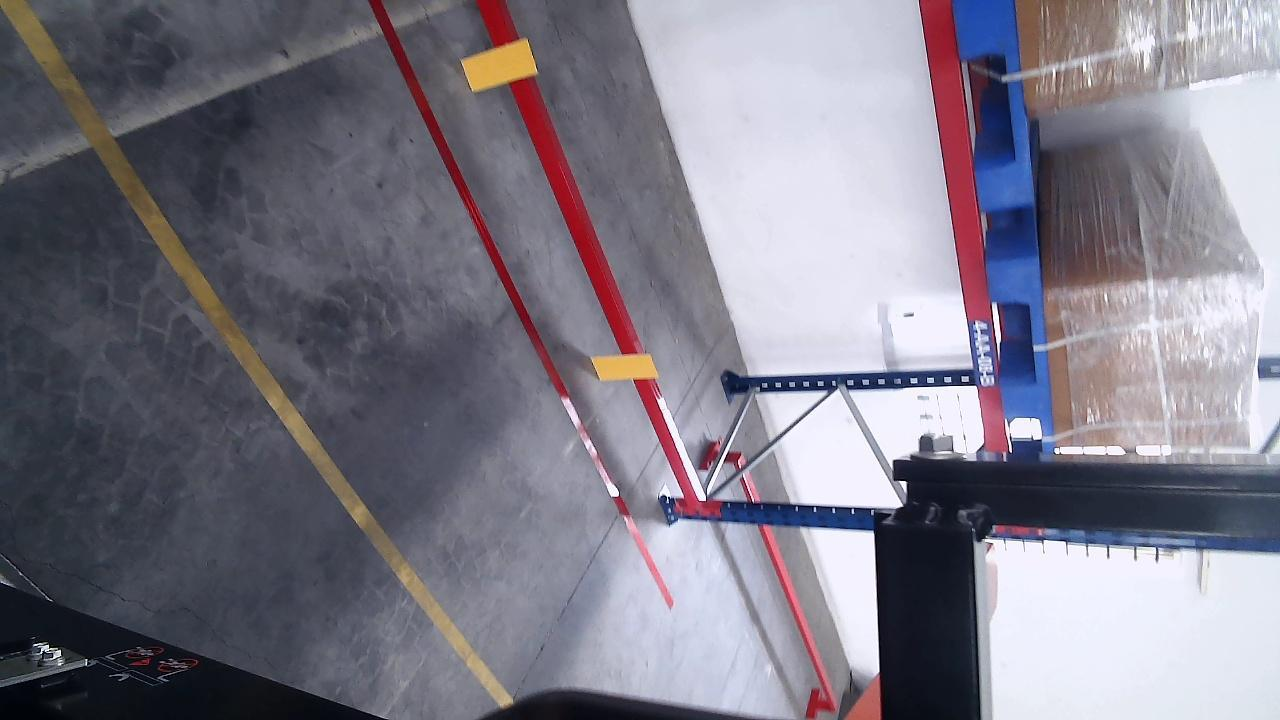h_rack: (475, 0, 700, 502)
orange_strip: (461, 35, 540, 95), (590, 350, 659, 381)
red_line: (367, 0, 675, 613)
small_pallet: (954, 0, 1035, 212), (991, 261, 1052, 460)
yellow_line: (2, 0, 516, 709)
